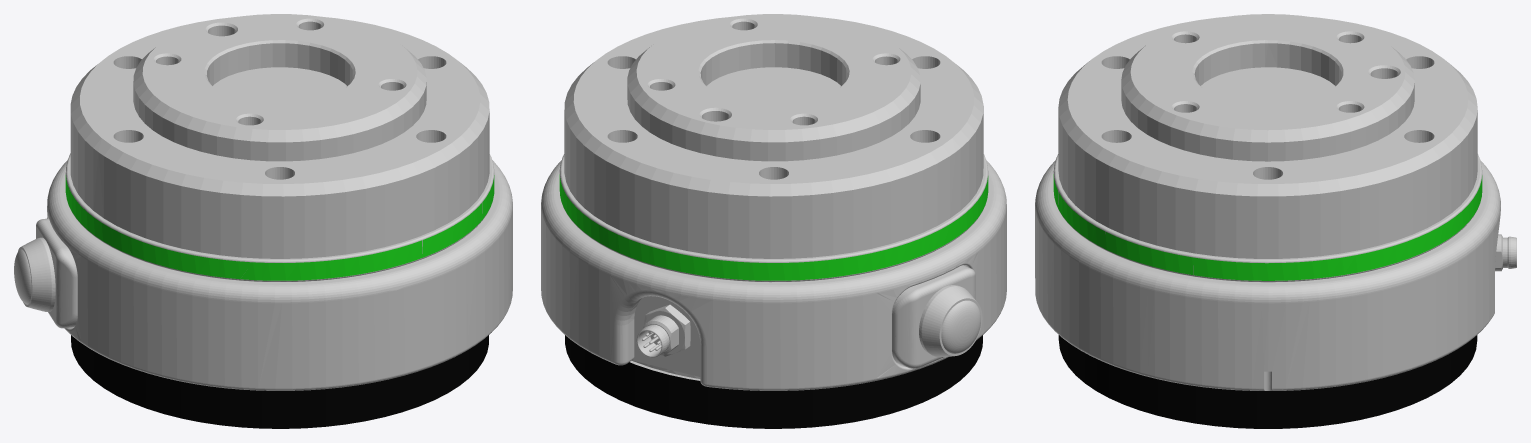
The model's file is symphony10_6_b.dae.
3 renders of one model, left to right at view 1: azimuth 30°, elevation 25°; view 2: azimuth 150°, elevation 25°; view 3: azimuth 270°, elevation 25°, orthographic.
Visible parts, largest first — view 1: link6; view 2: link6; view 3: link6.
Boxes of the visible parts, box(x1,y1,x2,y2) form: link6: box(14, 14, 512, 428); link6: box(541, 14, 1006, 428); link6: box(1035, 14, 1516, 428).
Bounding box in the file's own units: 0.1071 × 0.1034 × 0.0636.
